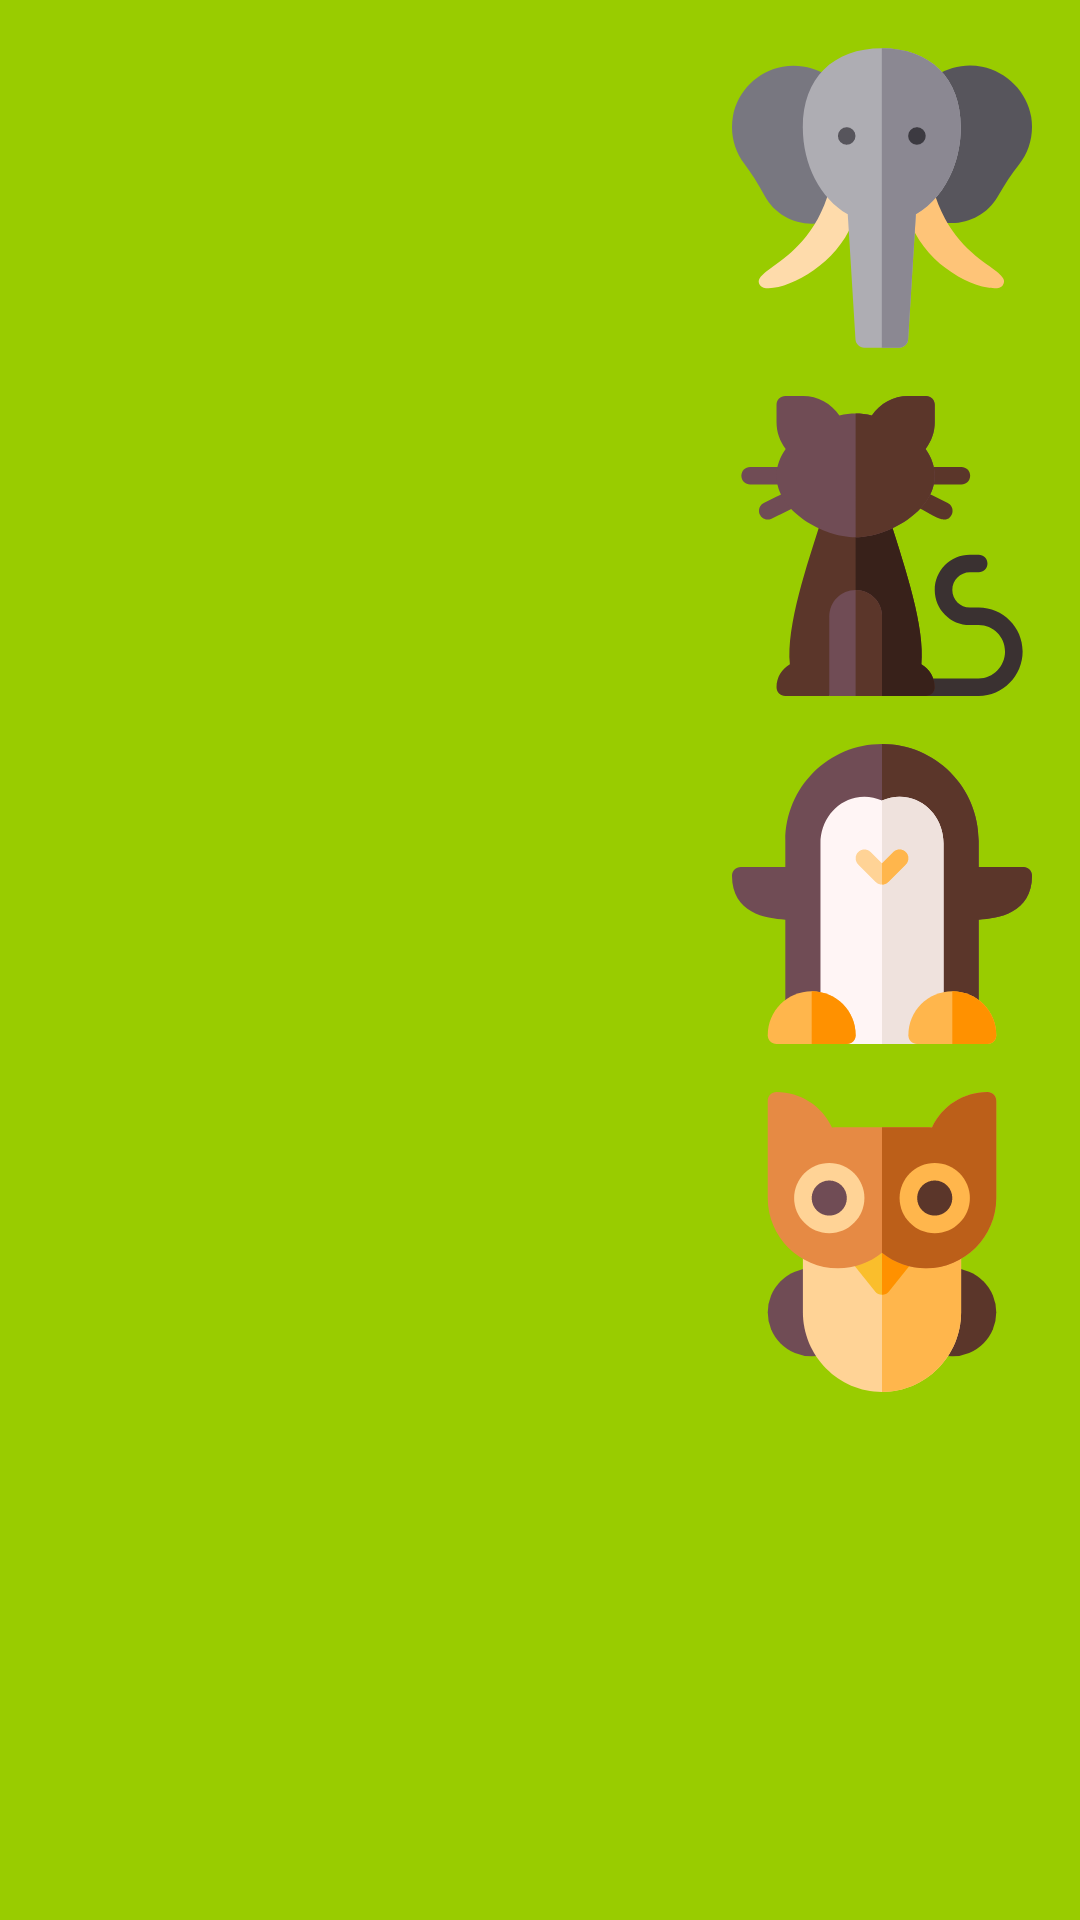

Named icons in this screenshot (1080px×1920px) and their bounding boxes, (x1, y1, x2, y2):
cat: (741, 396, 1023, 696)
elephant: (732, 48, 1032, 348)
owl: (767, 1092, 997, 1392)
penguin: (732, 744, 1032, 1044)
